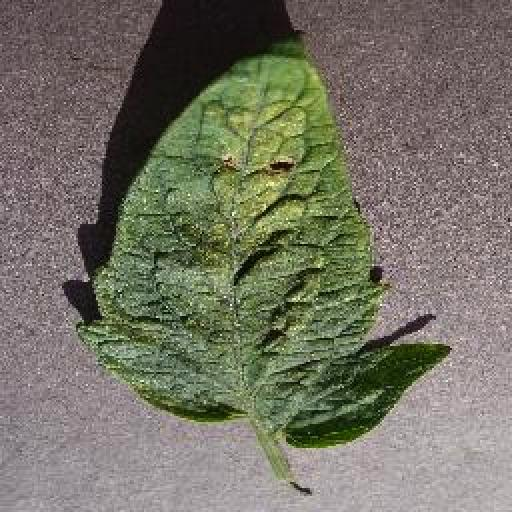disease_tomato: (77, 34, 451, 448)
